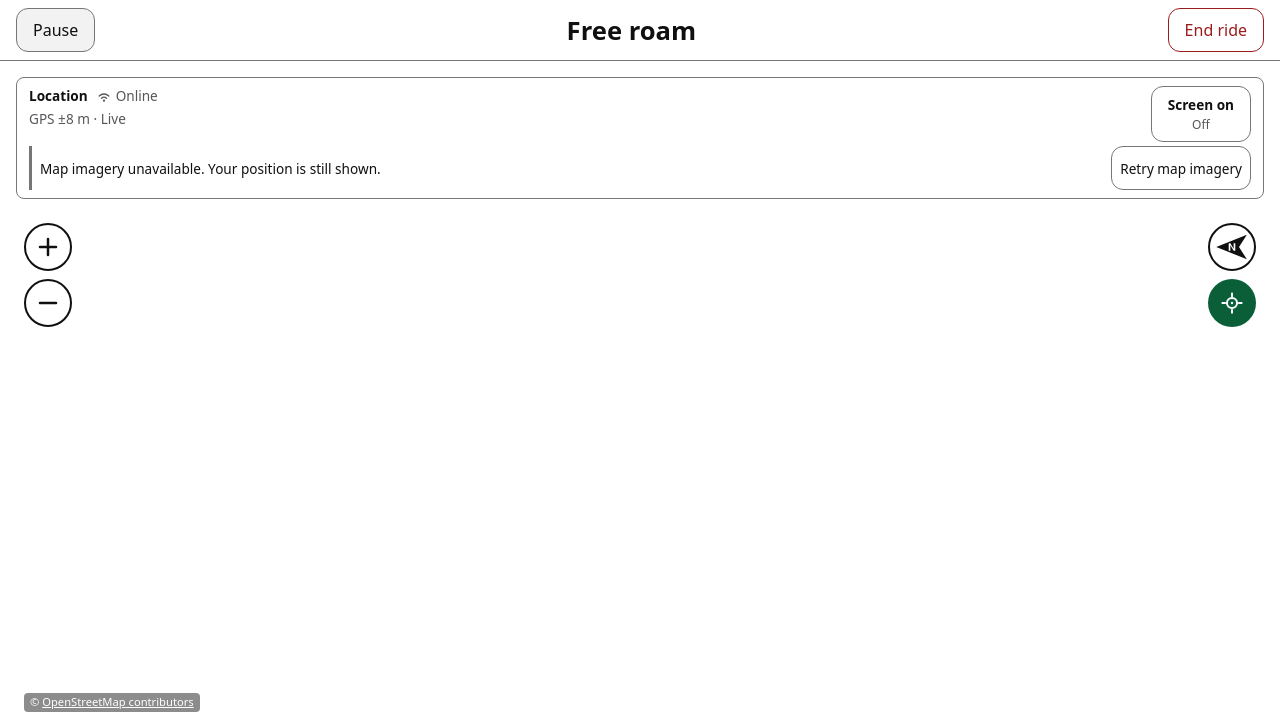
Test case: FreeRoamScreen › map-imagery recovery relocation (backlog item 83) › wires the status card's Retry action through to a genuine map retry, clearing the row once the fresh attempt succeeds
Click the button "Retry map imagery": x=1181, y=168 left=1111, top=146, right=1251, bottom=190
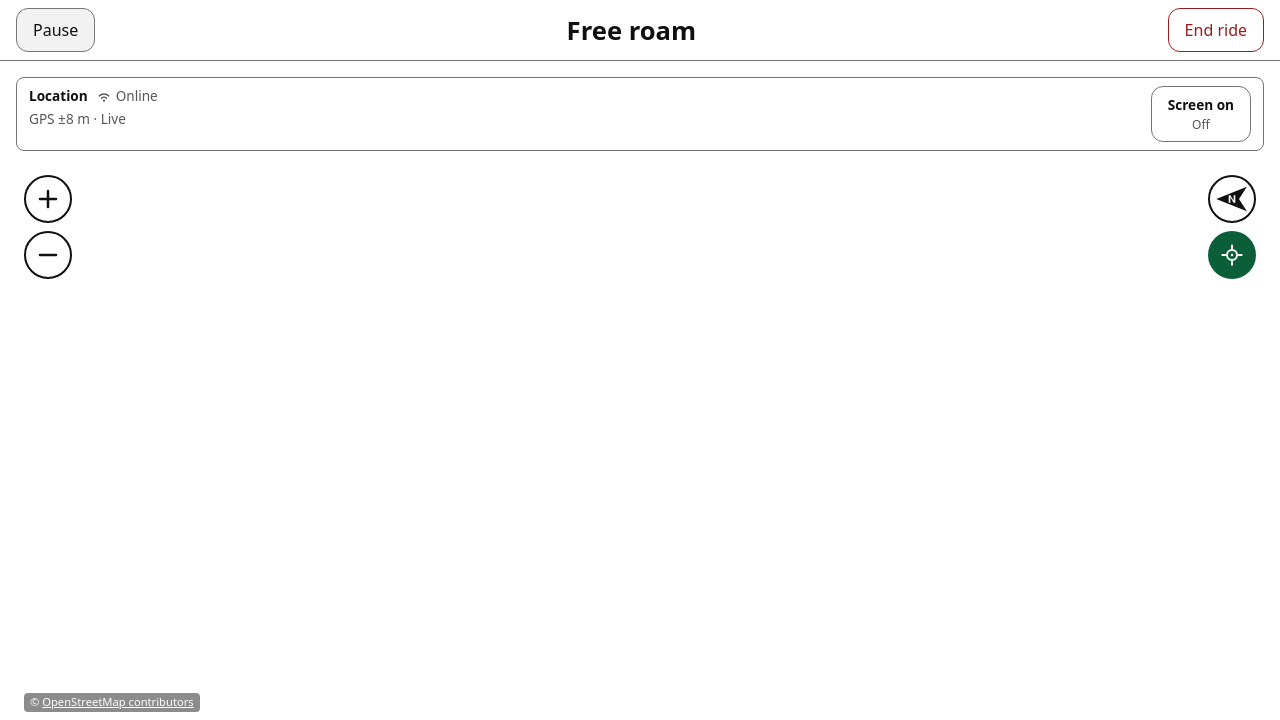
Expected: the message with test id "tiles-unavailable-banner" is gone
